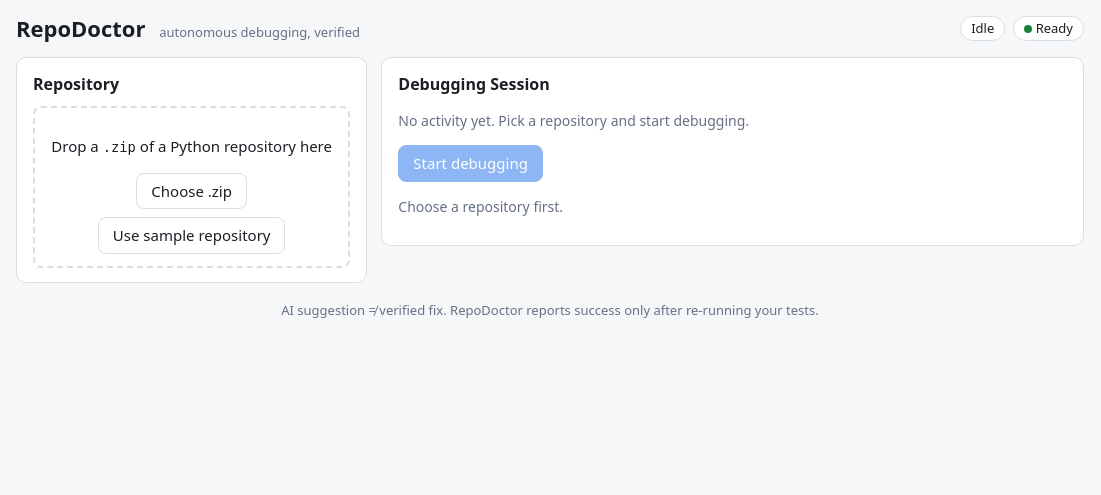
it: errors and controls › disables start while the request is in flight and shows the analyzing state
The image size is (1101, 495).
Later steps or results of the test are not shown.
Click the button "Use sample repository".
click(192, 235)  # box [98,217,285,254]
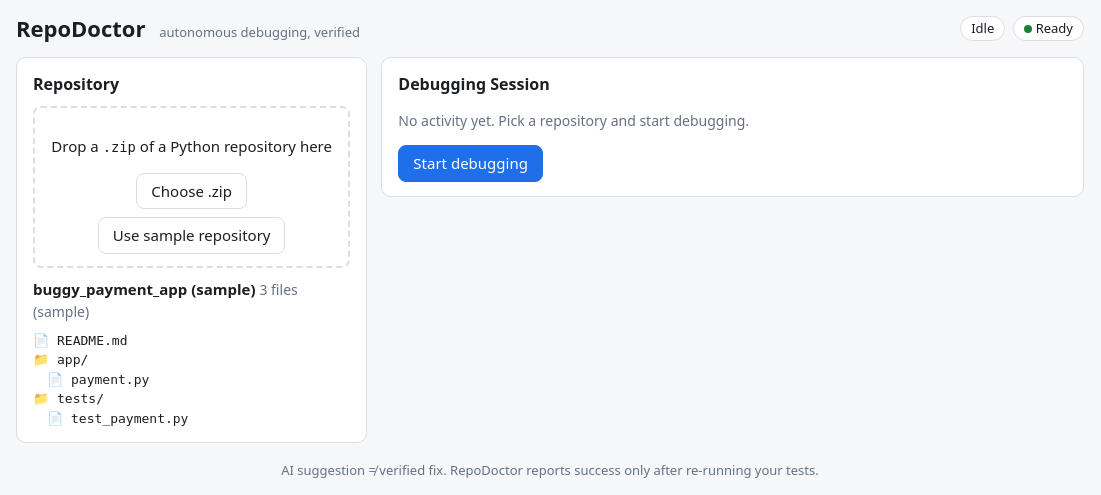
Result: the list named "Repository files" is shown at [33,333,188,426]
Click the button "Start debugging".
click(471, 163)  # box [398,145,543,182]
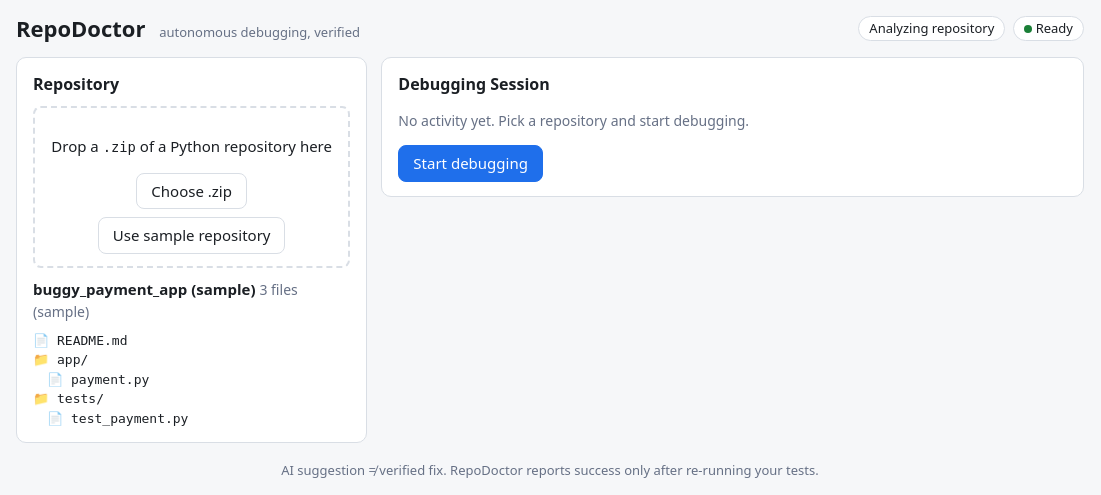
Result: the text named "Session state" reads "Analyzing repository" at [869,19,994,37]
